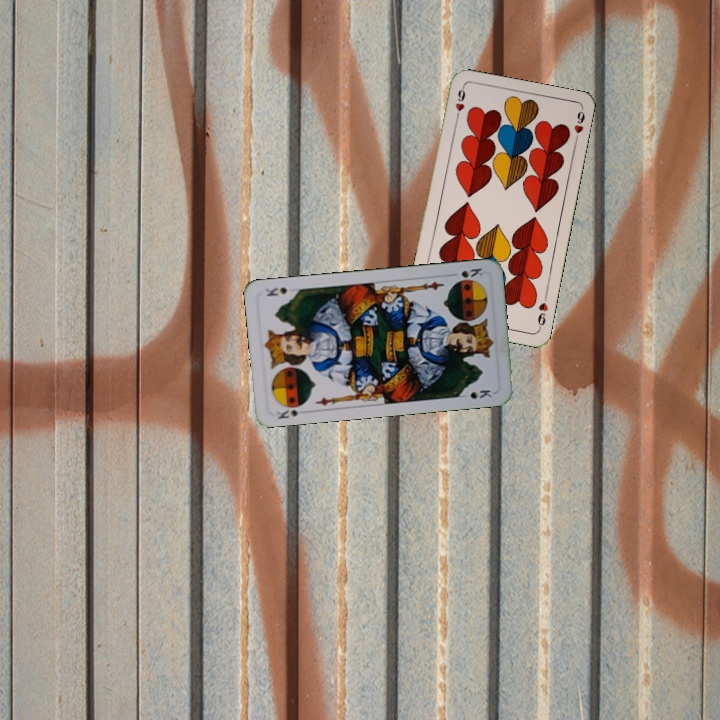H9: (534, 291, 551, 331), (451, 83, 468, 123)
SK: (273, 400, 309, 422), (446, 264, 485, 280)
